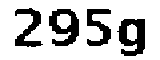2: (7, 5, 43, 50)
5: (84, 6, 113, 51)
9: (48, 6, 82, 50)
g: (117, 18, 148, 60)
